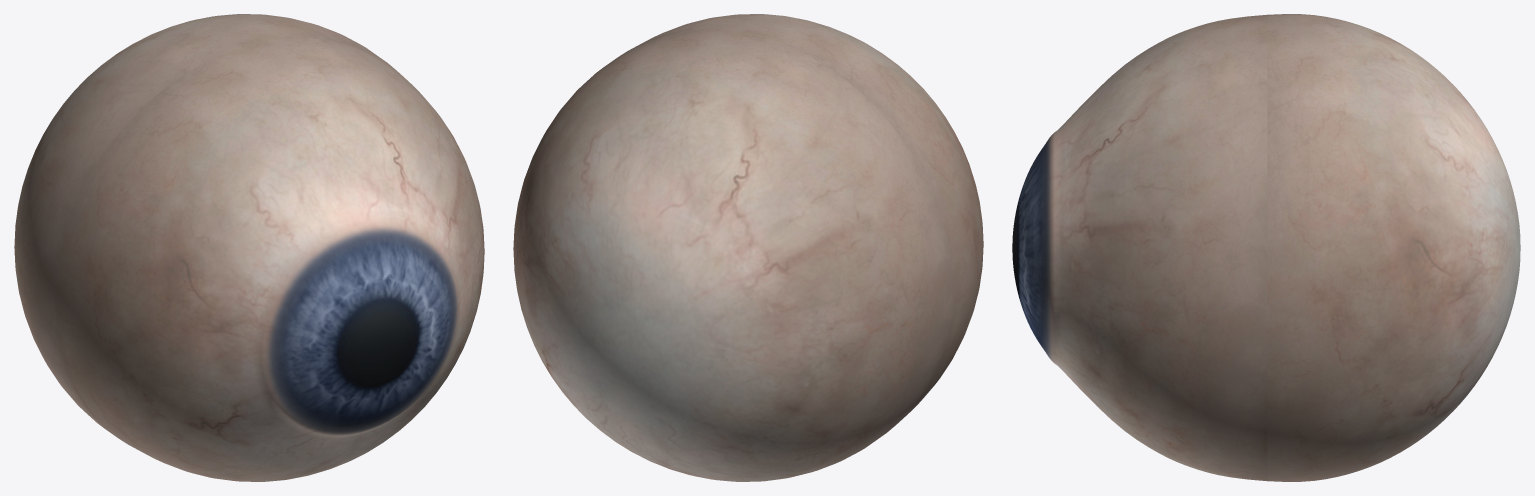
The model's file is eyes_01.glb.
3 views of the same model, side by side, from view 1: azimuth 30°, elevation 25°; view 2: azimuth 150°, elevation 25°; view 3: azimuth 270°, elevation 25° (orthographic).
Visible parts, largest first — view 1: Eyes_01; view 2: Eyes_01; view 3: Eyes_01.
Part boxes in pixels (<box>): Eyes_01: <box>14,14,484,481</box>; Eyes_01: <box>513,14,983,481</box>; Eyes_01: <box>1012,14,1520,481</box>.
Size of the model in its own units: 0.0362 by 0.0362 by 0.0393.
1 material, 1 textured.
